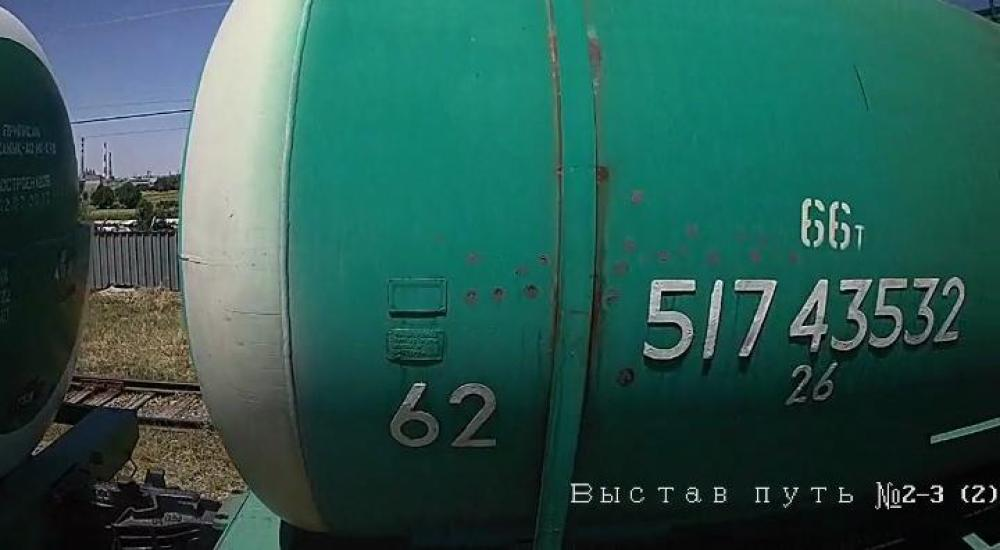Wagon-number: (635, 272, 972, 368)
